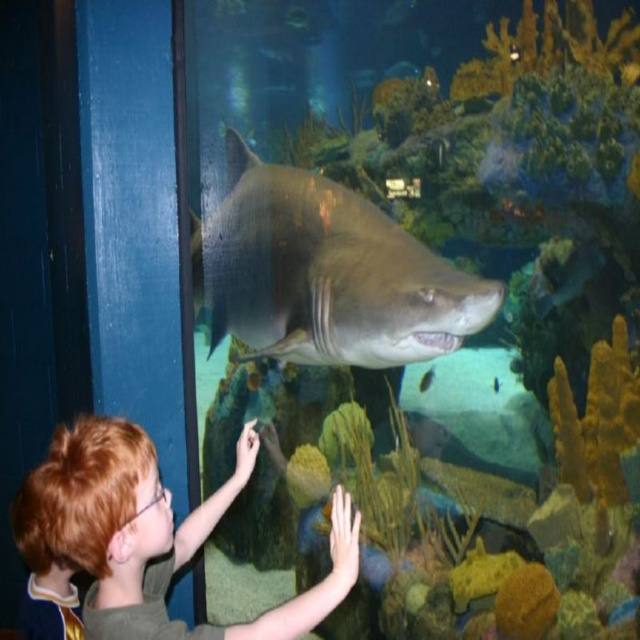Shark: (194, 122, 501, 366)
